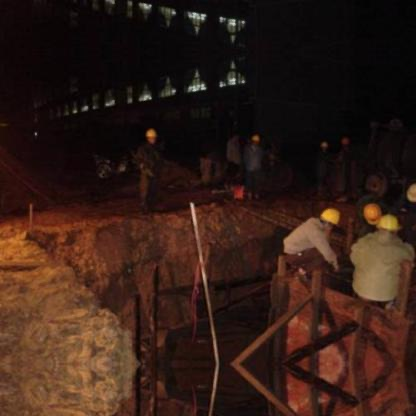Safety Helmet: (315, 201, 344, 234), (374, 209, 404, 239), (358, 198, 383, 223), (140, 123, 165, 147)
